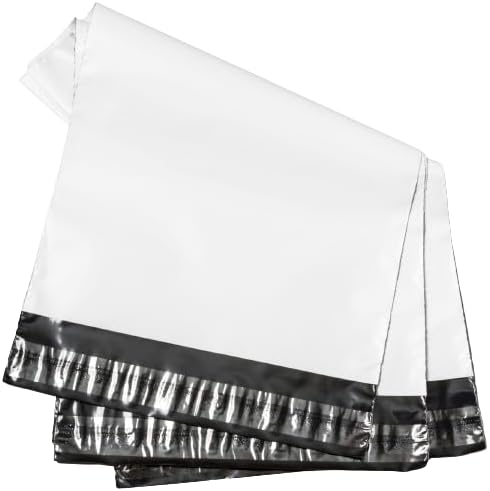塑料袋: (14, 6, 486, 475)
